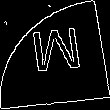M_S: (26, 27, 84, 83)
